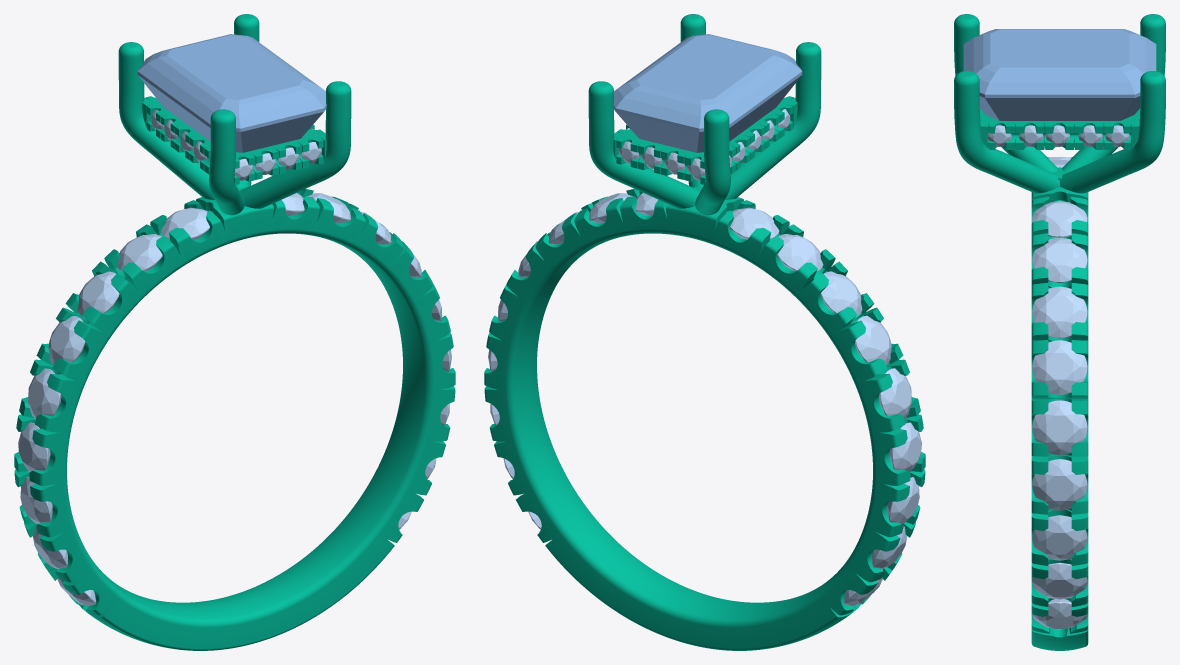
3 views of the same model, side by side, from view 1: azimuth 30°, elevation 25°; view 2: azimuth 150°, elevation 25°; view 3: azimuth 270°, elevation 25° (orthographic).
Parts seen in each view (by area): view 1: Rhinoceros Binary STL ( Jun 9 2014 ), Diamond_Emerald, Diamond_Round (×7); view 2: Rhinoceros Binary STL ( Jun 9 2014 ), Diamond_Emerald, Diamond_Round (×7); view 3: Rhinoceros Binary STL ( Jun 9 2014 ), Diamond_Round (×14), Diamond_Emerald.
Boxes of the visible parts, left/top/right/bottom form: Rhinoceros Binary STL ( Jun 9 2014 ): left=14, top=14, right=455, bottom=650; Diamond_Emerald: left=137, top=34, right=326, bottom=152; Diamond_Round (×7): left=18, top=207, right=209, bottom=524; Rhinoceros Binary STL ( Jun 9 2014 ): left=484, top=14, right=925, bottom=650; Diamond_Emerald: left=613, top=34, right=802, bottom=152; Diamond_Round (×7): left=730, top=207, right=921, bottom=524; Rhinoceros Binary STL ( Jun 9 2014 ): left=954, top=14, right=1165, bottom=650; Diamond_Round (×14): left=987, top=125, right=1129, bottom=629; Diamond_Emerald: left=963, top=29, right=1156, bottom=120.
Size of the model in its own units: 2.36 by 3.07 by 1.01.
